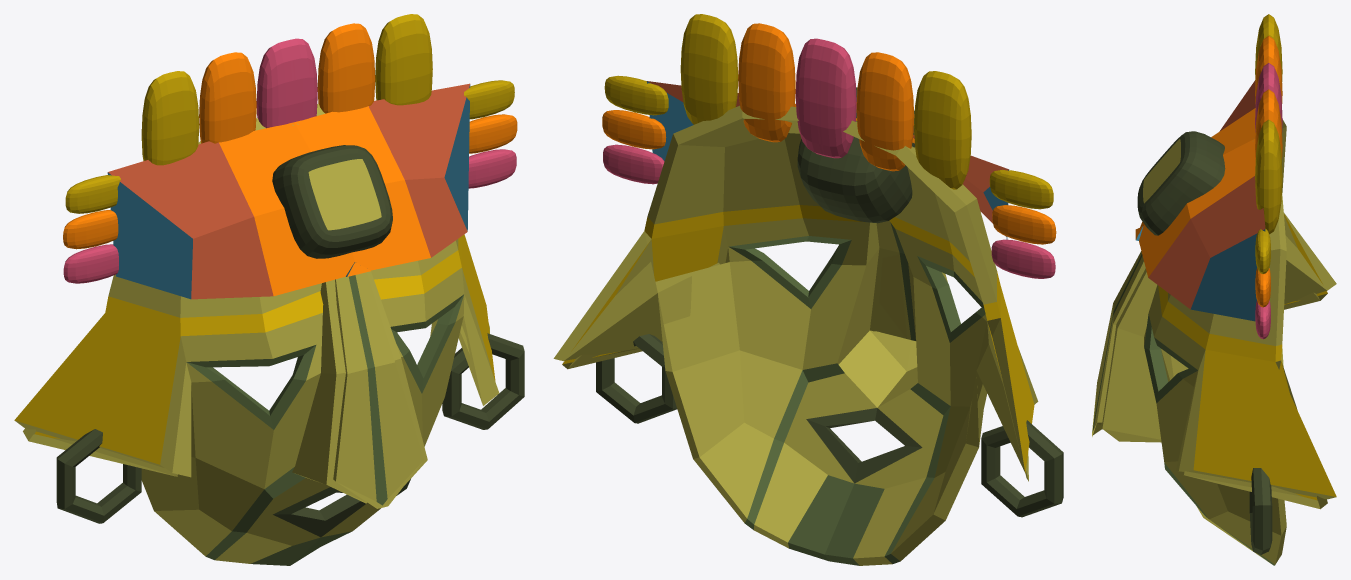
File: AztecaRepositioned.fbx
3 renders of one model, left to right at view 1: azimuth 30°, elevation 25°; view 2: azimuth 150°, elevation 25°; view 3: azimuth 270°, elevation 25°, orthographic. The views are drawn at different scales.
Parts seen in each view (by area): view 1: Cube.002, Cube.003, Cube.004, Cube.010, Cube.005, Torus; view 2: Cube.002, Cube.004, Cube.005, Torus, Cube.010, Cube.003; view 3: Cube.002, Cube.003, Cube.010, Cube.004, Torus, Cube.005.
Boxes of the visible parts, x1,y1,x2,y2 form: Cube.002: (14, 104, 499, 565); Cube.003: (107, 83, 470, 299); Cube.004: (141, 14, 432, 165); Cube.010: (272, 145, 392, 258); Cube.005: (63, 80, 517, 283); Torus: (56, 333, 524, 523); Cube.002: (553, 105, 1038, 565); Cube.004: (680, 14, 971, 189); Cube.005: (602, 75, 1056, 278); Torus: (596, 334, 1063, 517); Cube.010: (797, 87, 914, 223); Cube.003: (646, 81, 1009, 239); Cube.002: (1092, 119, 1336, 565); Cube.003: (1135, 80, 1265, 321); Cube.010: (1137, 131, 1225, 235); Cube.004: (1255, 14, 1282, 234); Torus: (1249, 468, 1272, 554); Cube.005: (1255, 229, 1270, 339).
Size of the model in its own units: 195 by 207 by 94.44.
